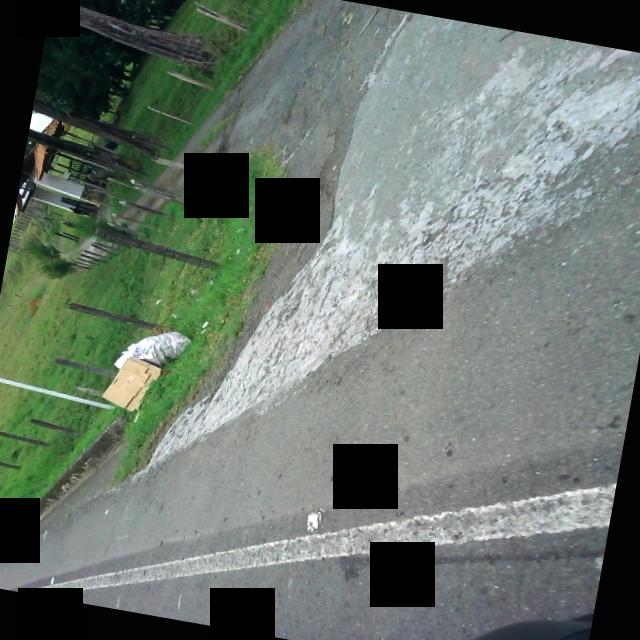DITCH: (0, 0, 640, 640), (33, 0, 640, 640)
